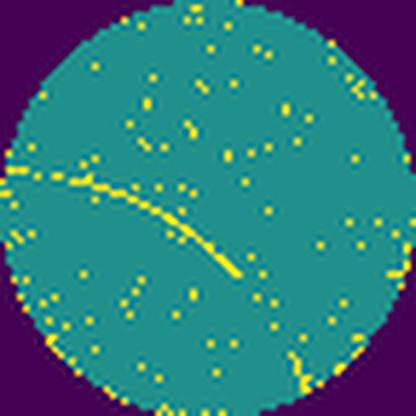Scratch: (4, 160, 248, 284)
